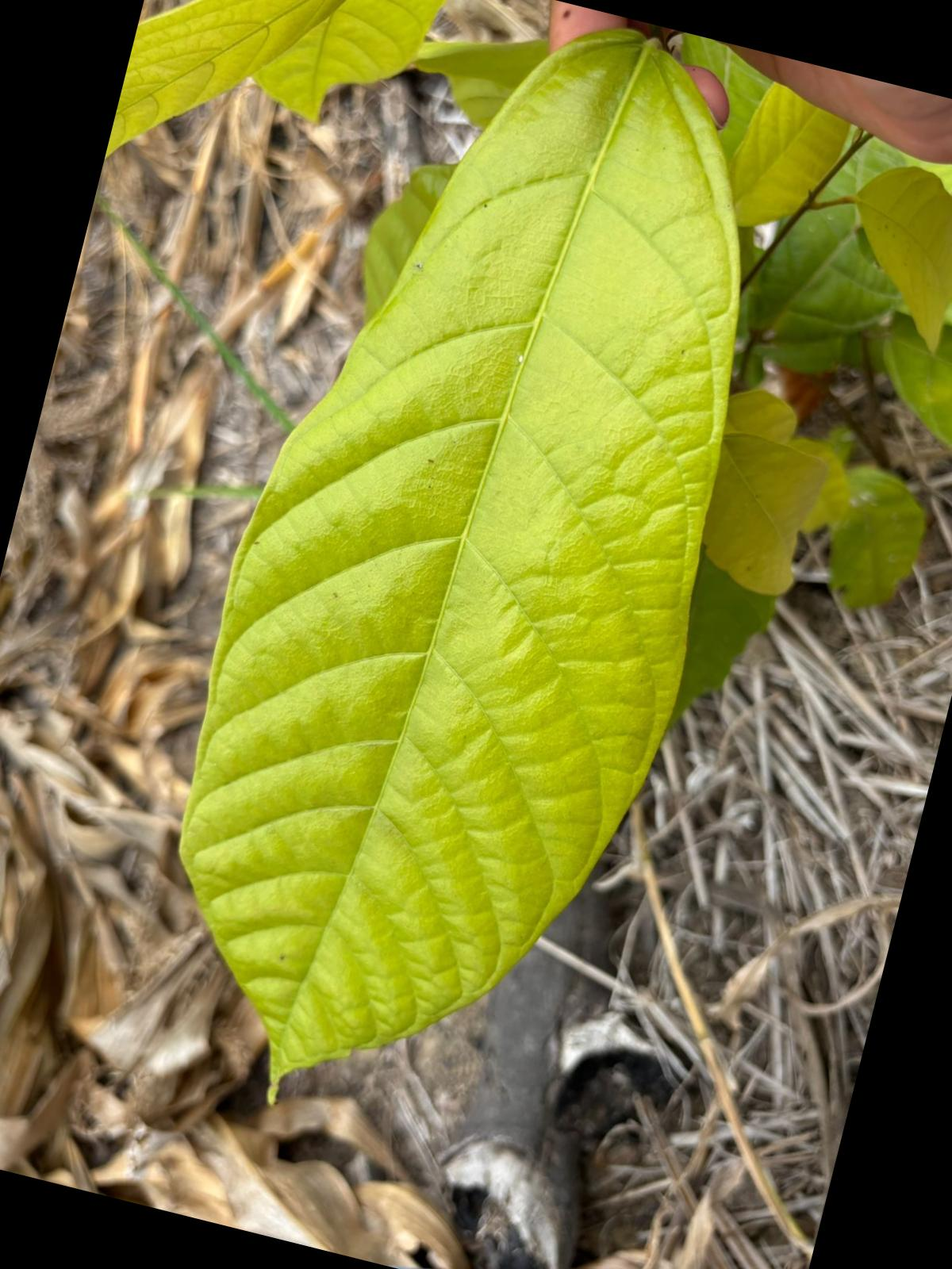Nitrogeno: (181, 31, 739, 1080)
